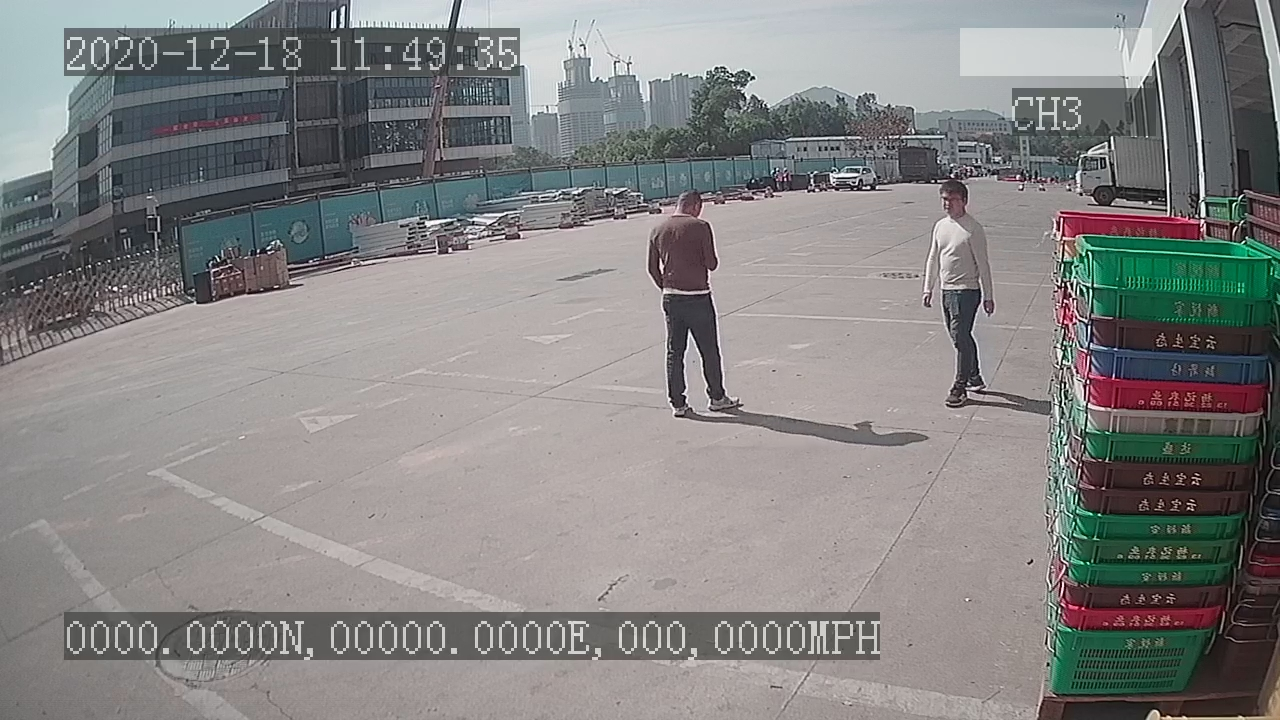person: (642, 185, 749, 424), (918, 176, 997, 413)
